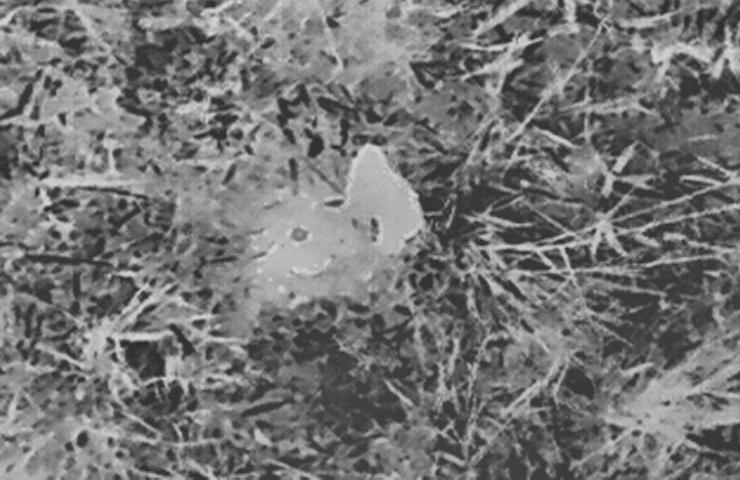landmines: (264, 153, 430, 309)
